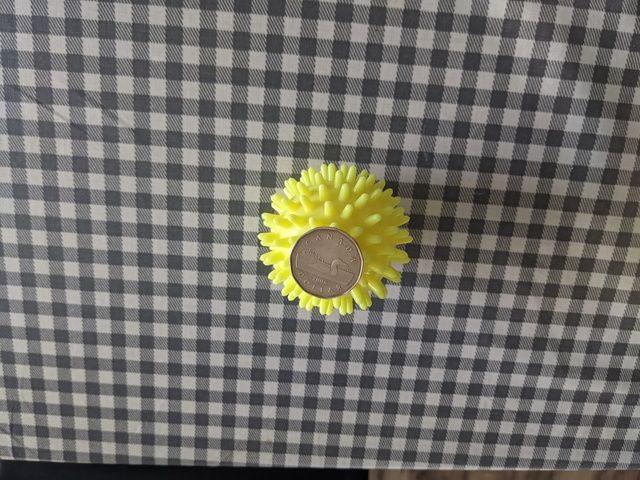loonie: (284, 218, 368, 300)
